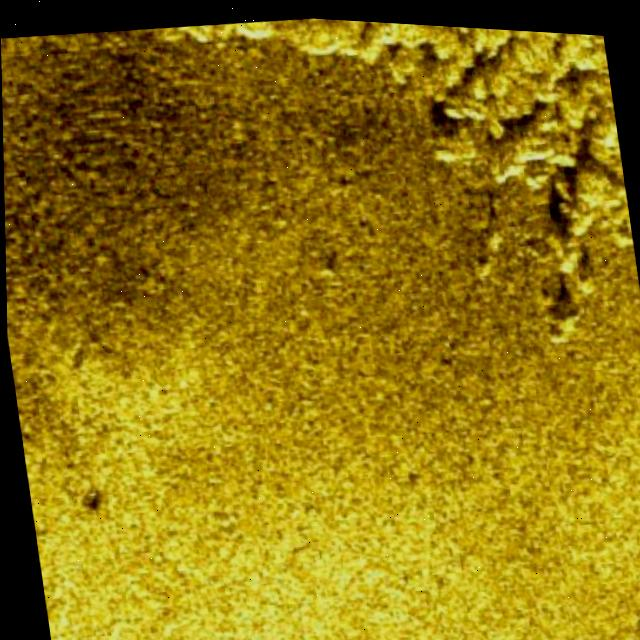bedrock group: (157, 7, 630, 282)
